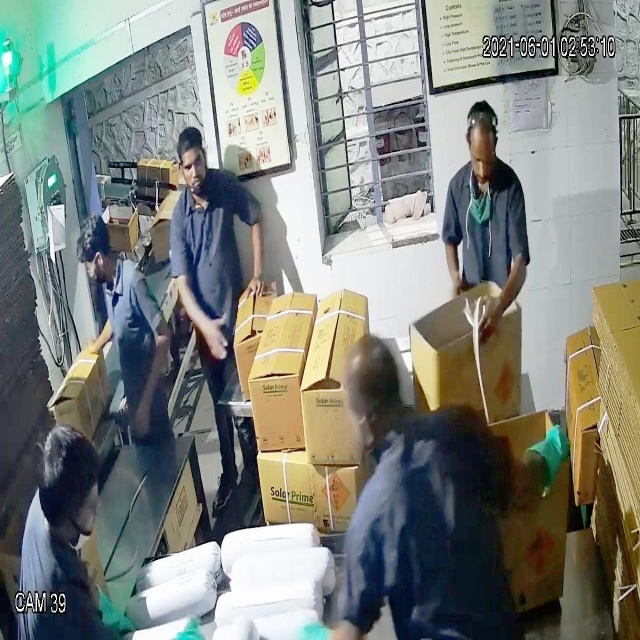Sin_gafas: (461, 134, 500, 177), (178, 147, 212, 184)
